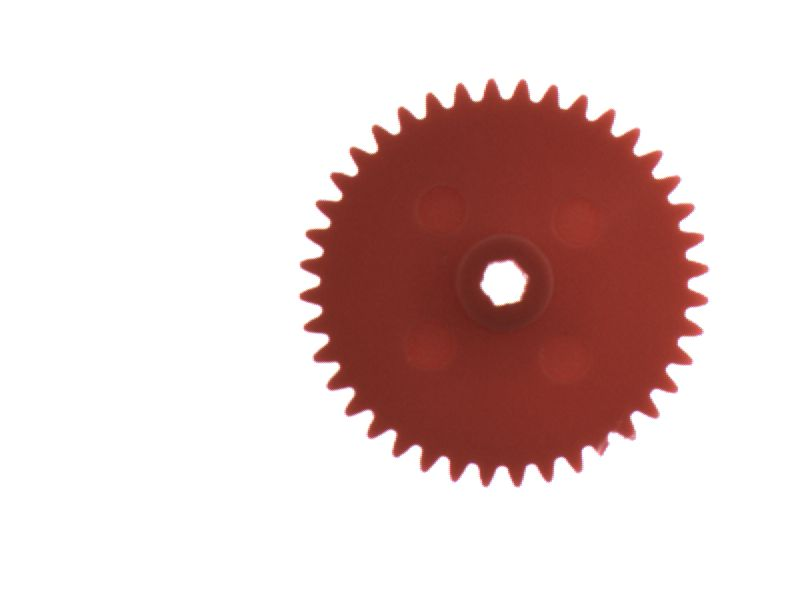defect_break: (580, 430, 623, 470)
